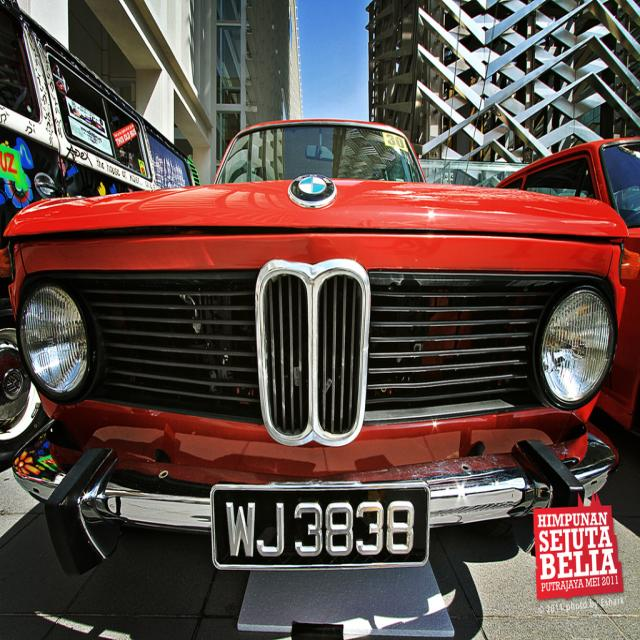car: (4, 112, 629, 575)
